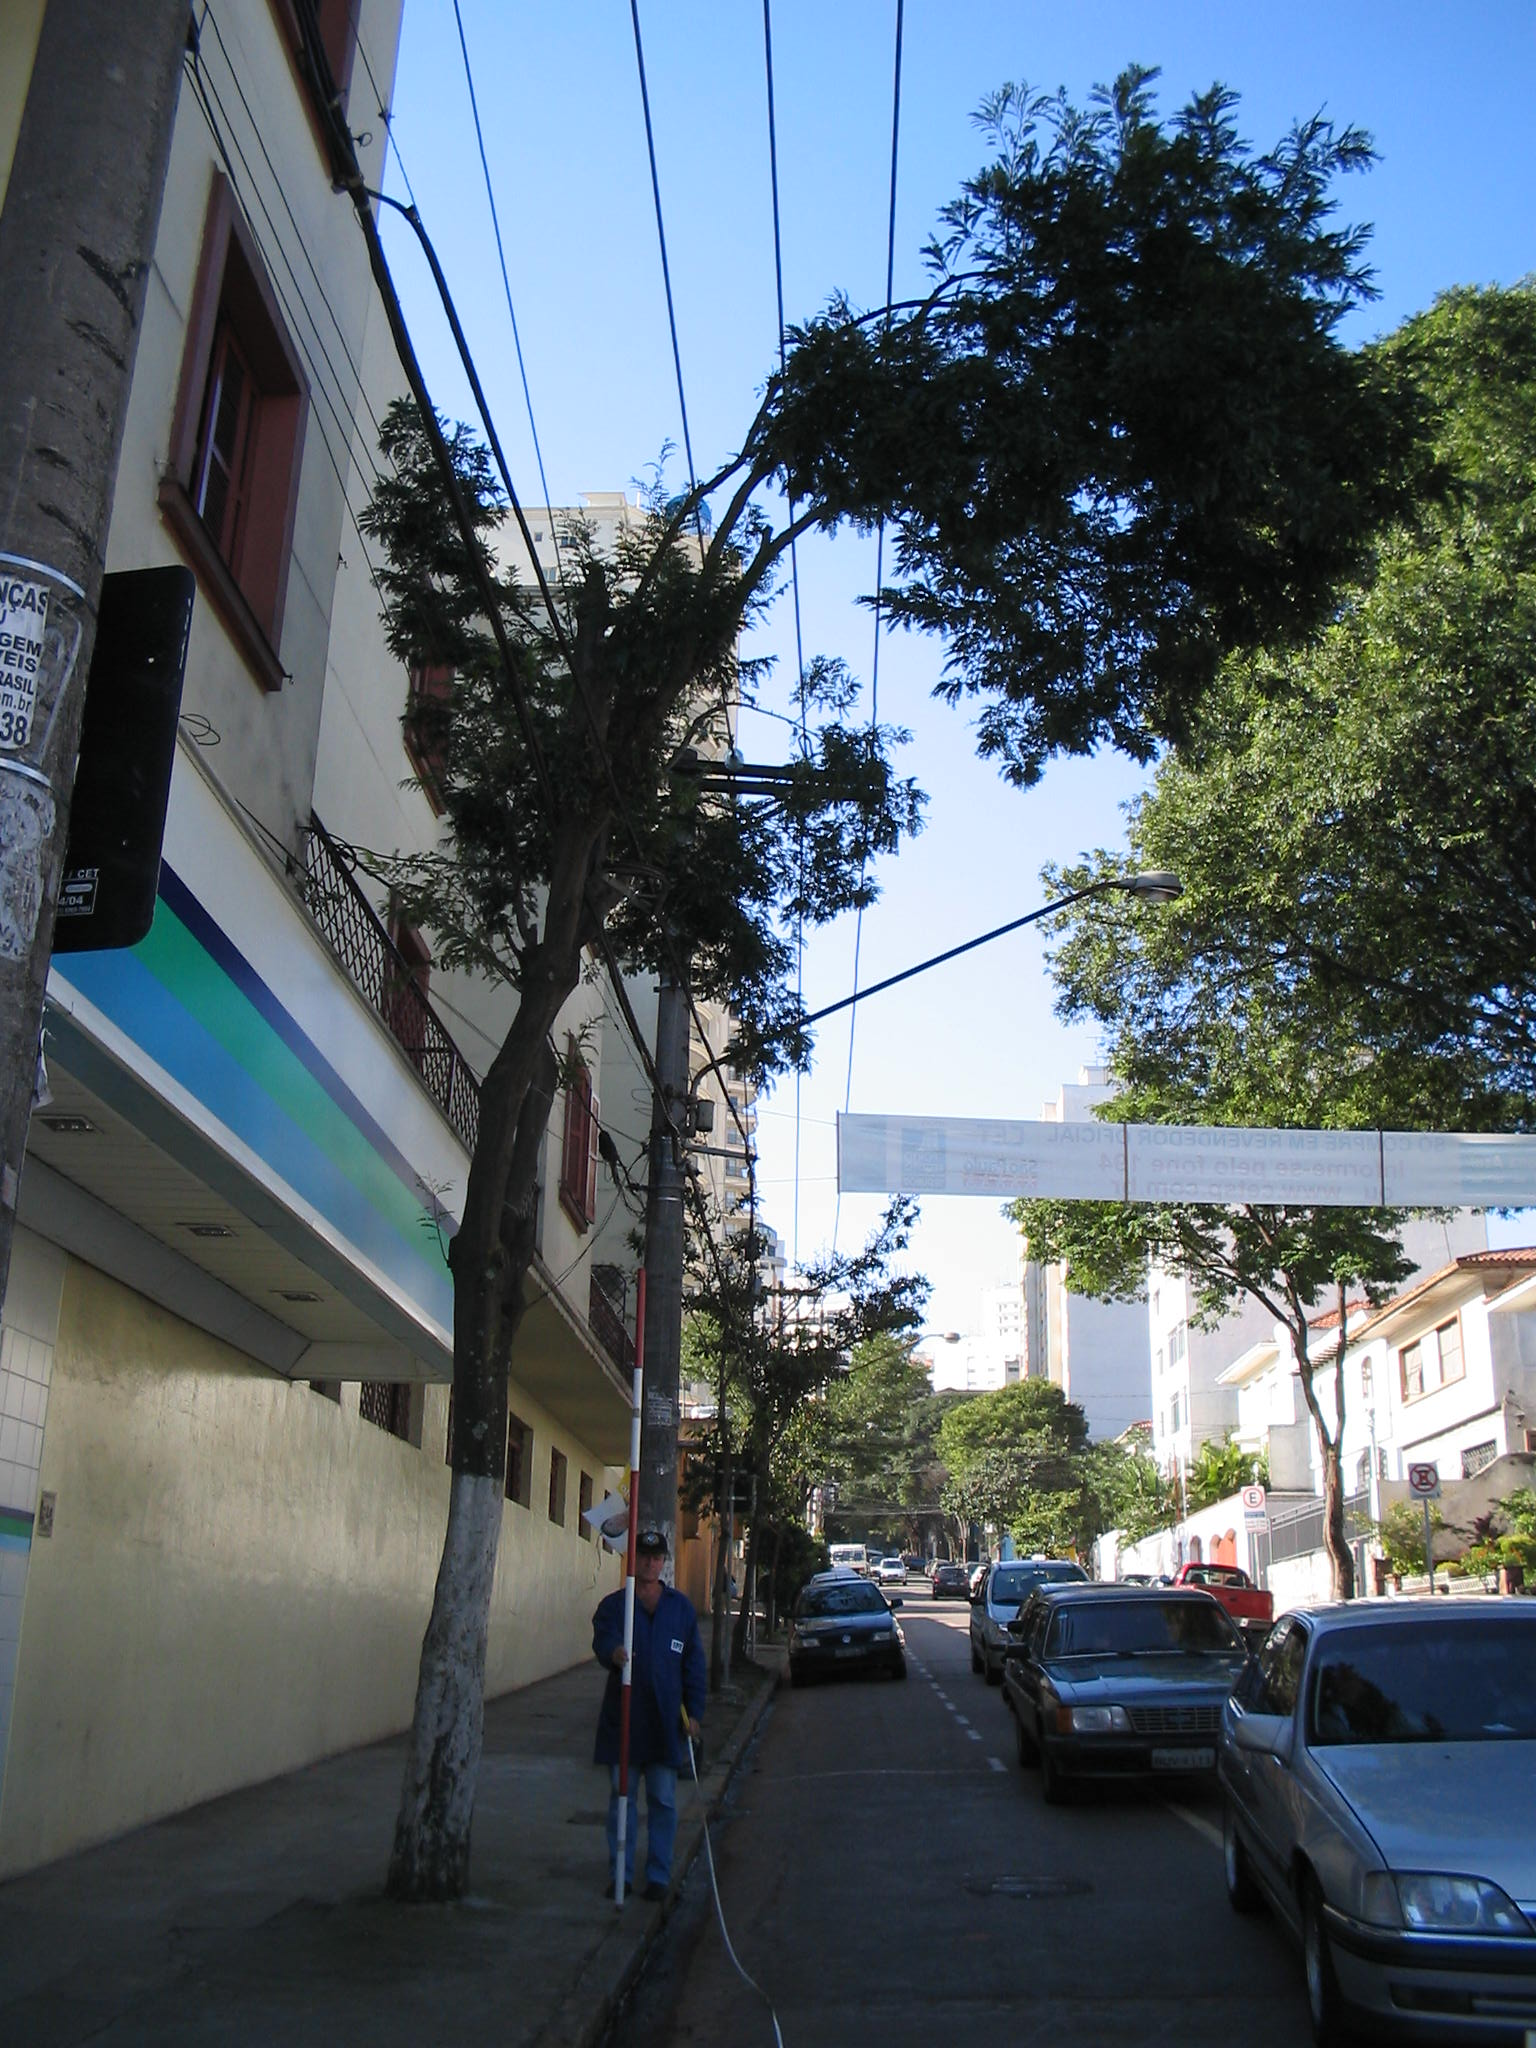crown: (337, 73, 1457, 1100), (1000, 1037, 1520, 1353)
stem: (353, 1242, 603, 1904), (1291, 1450, 1399, 1600)
stick: (574, 1266, 700, 1908)
tree: (328, 66, 1467, 1913), (991, 1032, 1525, 1595)
